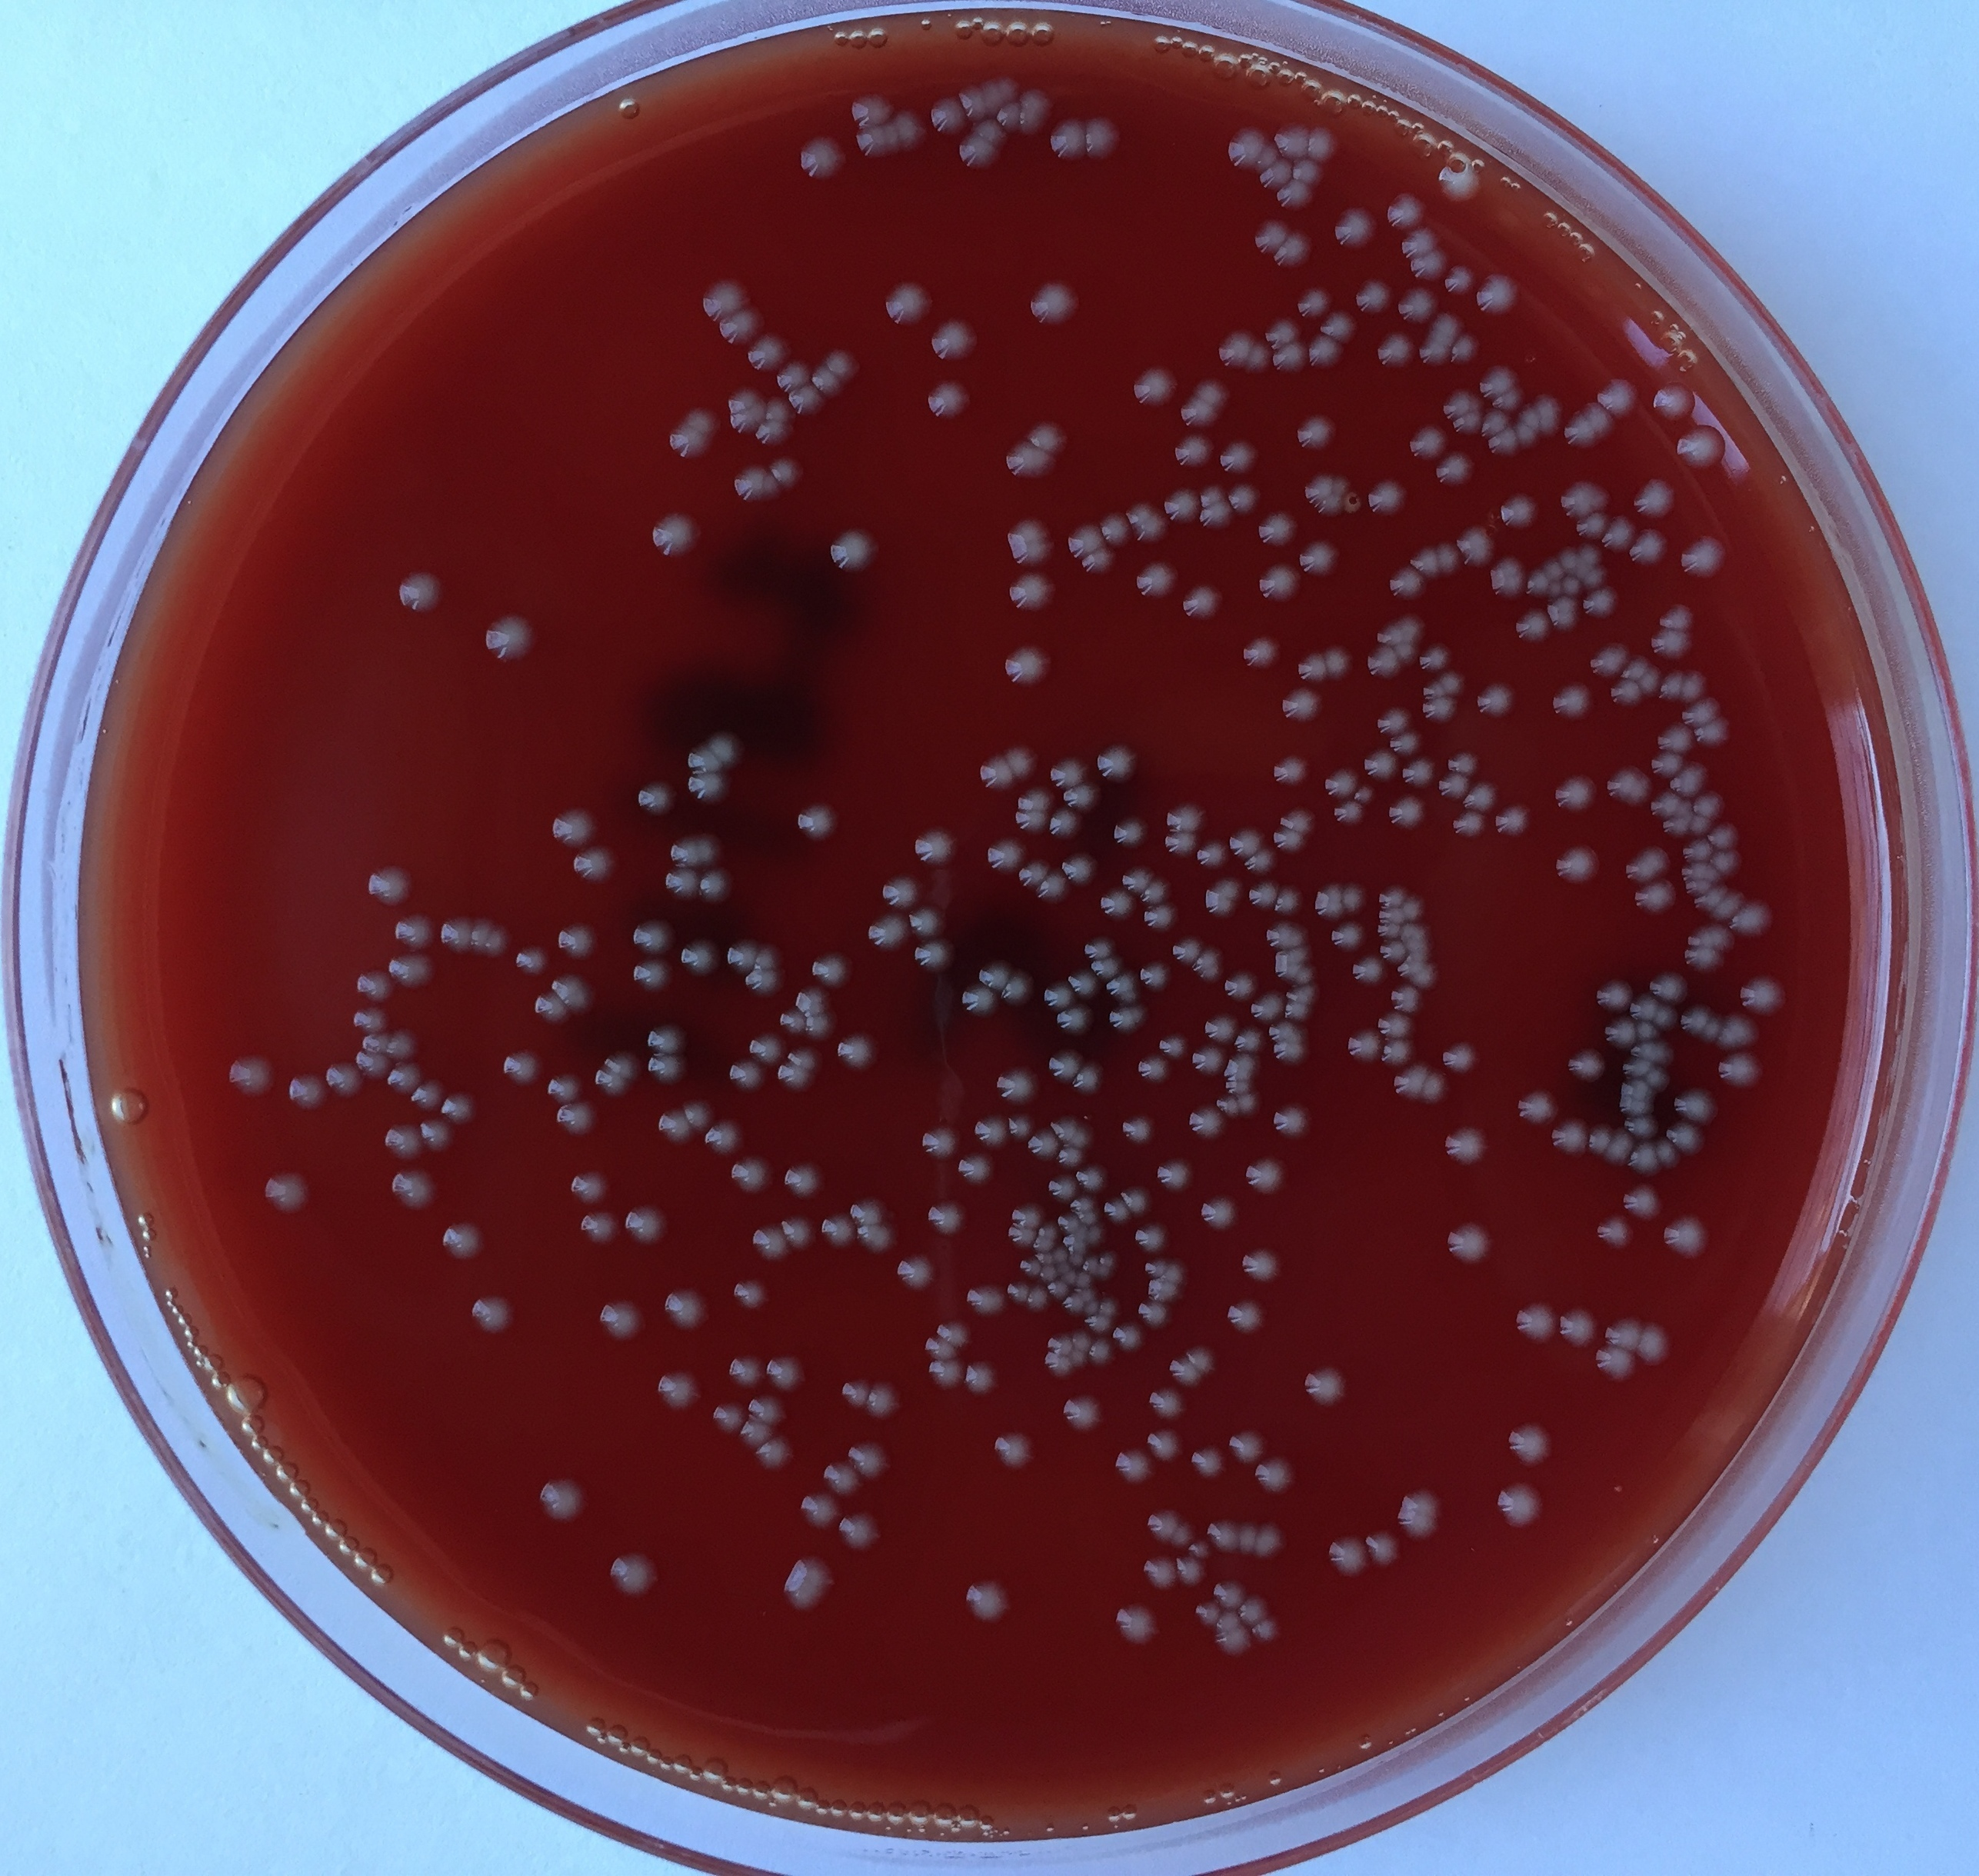sp13: (773, 1552, 841, 1612), (259, 1165, 316, 1222), (1672, 421, 1730, 476), (483, 610, 538, 668), (1025, 277, 1081, 330), (1004, 513, 1057, 569), (1390, 1490, 1445, 1541), (825, 524, 880, 575), (1000, 636, 1055, 688), (605, 1550, 661, 1599), (656, 1285, 713, 1335), (794, 134, 852, 182), (226, 1051, 277, 1104), (395, 568, 446, 621), (653, 506, 704, 559), (1443, 1218, 1499, 1266), (1490, 1483, 1547, 1530), (649, 1368, 707, 1414), (529, 1478, 589, 1522), (390, 1165, 441, 1217), (596, 1298, 651, 1345), (878, 282, 935, 328), (698, 277, 755, 323), (1549, 843, 1607, 887), (1432, 157, 1485, 205), (1677, 534, 1730, 582), (1131, 363, 1184, 411), (1058, 1393, 1113, 1439), (1557, 478, 1614, 522), (963, 1578, 1019, 1622), (439, 1215, 489, 1264), (550, 800, 600, 850), (1505, 1423, 1556, 1470), (1125, 499, 1173, 550), (1662, 1217, 1714, 1262), (619, 1204, 676, 1247), (1004, 441, 1060, 483), (1330, 203, 1379, 250), (1242, 1153, 1291, 1201), (1552, 1303, 1600, 1352), (554, 919, 601, 968), (367, 862, 414, 912), (1221, 122, 1266, 173), (284, 1070, 335, 1116), (1131, 557, 1182, 603), (928, 321, 981, 365), (1737, 973, 1790, 1017), (570, 841, 623, 885), (806, 950, 861, 993), (1485, 555, 1533, 603), (928, 376, 975, 423), (1473, 270, 1522, 316), (1605, 763, 1654, 809), (386, 949, 436, 994), (550, 970, 596, 1019), (1007, 568, 1057, 614), (831, 1511, 889, 1550), (1512, 1303, 1563, 1347), (794, 1488, 845, 1532), (841, 1439, 892, 1483), (988, 1430, 1041, 1472), (981, 836, 1034, 878), (392, 910, 439, 956), (665, 418, 713, 464), (716, 309, 765, 353), (1549, 681, 1600, 723), (1550, 772, 1602, 815), (1293, 538, 1346, 578), (1623, 843, 1676, 883), (1716, 1049, 1769, 1090), (831, 1033, 884, 1074), (1651, 379, 1697, 425), (469, 1291, 515, 1336), (1323, 1536, 1370, 1580), (1012, 90, 1055, 139), (743, 331, 792, 374), (1727, 896, 1776, 938), (1199, 878, 1249, 920), (1251, 1455, 1300, 1497), (1298, 1366, 1349, 1407), (1042, 1172, 1095, 1211), (676, 940, 728, 979), (847, 122, 901, 159), (1393, 282, 1439, 326), (631, 915, 676, 961), (631, 952, 676, 998), (1095, 741, 1139, 786), (1630, 476, 1677, 518), (1365, 478, 1413, 520), (1021, 416, 1069, 458), (1635, 1321, 1676, 1370), (780, 1160, 829, 1201), (905, 905, 954, 945), (794, 804, 843, 845), (817, 1458, 866, 1499), (993, 1067, 1044, 1105), (954, 1151, 1007, 1188), (1621, 1180, 1665, 1224), (383, 1120, 427, 1164), (1256, 561, 1302, 603), (1547, 1116, 1593, 1158), (1372, 331, 1420, 372), (1665, 760, 1713, 800), (1632, 876, 1679, 917), (1515, 1088, 1563, 1128), (1196, 1194, 1243, 1234), (1238, 1245, 1286, 1285), (351, 1047, 399, 1088), (863, 915, 917, 950), (1293, 414, 1342, 453), (1215, 439, 1265, 478), (1441, 1125, 1490, 1164), (1378, 938, 1427, 977), (877, 873, 928, 910), (1406, 421, 1450, 464), (1390, 1061, 1434, 1104), (727, 1158, 780, 1194), (439, 1090, 482, 1134), (637, 774, 679, 818), (704, 725, 748, 767), (1594, 377, 1640, 418), (1471, 681, 1517, 721), (1247, 1523, 1293, 1564), (891, 104, 930, 152), (1279, 686, 1326, 725), (1672, 1086, 1720, 1125), (1221, 1298, 1268, 1336), (1591, 1345, 1639, 1384), (566, 1171, 614, 1210), (1222, 1432, 1272, 1469), (552, 1102, 601, 1139), (1053, 1003, 1102, 1040), (910, 829, 960, 866), (1598, 1319, 1649, 1354), (852, 1222, 903, 1257), (750, 1439, 801, 1474), (861, 1381, 903, 1423), (1064, 518, 1106, 561), (1051, 118, 1092, 162), (1254, 510, 1298, 550), (1457, 524, 1497, 568), (1543, 594, 1587, 635), (1593, 1211, 1637, 1252), (751, 1224, 795, 1264), (1563, 1046, 1609, 1084), (1270, 1102, 1316, 1141), (917, 1125, 963, 1164), (1385, 793, 1432, 830), (1058, 779, 1106, 816), (642, 1051, 691, 1086), (910, 942, 960, 977), (686, 772, 736, 808), (739, 966, 794, 998), (930, 95, 970, 138), (1596, 515, 1639, 555), (1594, 977, 1637, 1017), (1720, 1009, 1762, 1049), (1494, 799, 1536, 839), (961, 1358, 1004, 1398), (325, 1058, 365, 1100), (418, 1116, 460, 1157), (385, 1058, 427, 1098), (512, 940, 554, 980), (499, 1047, 541, 1088), (765, 451, 808, 492), (1011, 1202, 1062, 1236), (1351, 277, 1395, 316), (1497, 492, 1542, 531), (1115, 1604, 1159, 1643), (746, 1391, 790, 1430), (1180, 582, 1224, 621), (1085, 115, 1122, 160), (1586, 644, 1632, 681), (1185, 1446, 1231, 1483), (575, 1210, 621, 1247), (660, 867, 706, 905), (734, 1414, 780, 1451), (1048, 755, 1094, 792), (1238, 635, 1286, 670), (698, 1121, 746, 1157), (653, 1111, 700, 1146), (743, 1033, 790, 1068), (437, 912, 473, 959), (762, 1358, 811, 1391), (1251, 217, 1291, 257), (1273, 229, 1314, 270), (1215, 331, 1256, 372), (1512, 605, 1552, 645), (1667, 1118, 1707, 1158), (970, 1111, 1011, 1151), (385, 1024, 425, 1065), (1305, 335, 1348, 374), (1434, 450, 1476, 488), (1476, 361, 1519, 400), (1647, 970, 1690, 1009), (1154, 1155, 1196, 1194), (1363, 1530, 1406, 1569), (728, 400, 767, 443), (977, 751, 1016, 793), (956, 134, 1000, 171), (1397, 224, 1441, 261), (1408, 247, 1452, 284), (1582, 398, 1619, 443), (1171, 434, 1215, 471), (1706, 889, 1750, 926), (965, 1282, 1009, 1319), (1111, 1448, 1155, 1485), (1095, 508, 1132, 552), (1679, 945, 1730, 977), (1182, 1105, 1228, 1141), (958, 984, 1004, 1019), (589, 1065, 637, 1098), (706, 1402, 753, 1435), (1265, 919, 1318, 949), (1273, 122, 1314, 160), (1561, 413, 1600, 453), (1600, 1014, 1639, 1054), (1344, 1024, 1385, 1063), (1311, 883, 1349, 924), (1212, 1615, 1252, 1654), (407, 1076, 448, 1114), (771, 356, 813, 393), (1572, 508, 1614, 545), (1684, 922, 1734, 954), (1201, 1518, 1243, 1555), (919, 1335, 968, 1366), (723, 940, 765, 977), (531, 989, 573, 1026), (1004, 742, 1041, 785), (847, 92, 891, 127), (1305, 122, 1340, 166), (1261, 316, 1305, 351), (1529, 391, 1565, 435), (1626, 531, 1670, 566), (1388, 566, 1432, 601), (1448, 806, 1492, 841), (924, 1201, 968, 1236), (679, 1098, 723, 1134), (695, 869, 739, 905), (1004, 1222, 1058, 1250), (1651, 628, 1697, 661), (1145, 1389, 1191, 1423), (1057, 853, 1102, 887), (642, 1026, 693, 1056), (1012, 786, 1064, 816), (1191, 379, 1238, 411), (1677, 696, 1725, 728), (600, 1051, 647, 1083), (1388, 190, 1427, 229), (1408, 543, 1445, 584), (1328, 919, 1369, 956), (1118, 1111, 1159, 1148), (355, 966, 395, 1003), (1318, 310, 1360, 346), (1321, 767, 1363, 802), (1441, 1040, 1483, 1076), (1164, 1356, 1206, 1391), (776, 1215, 818, 1250), (998, 973, 1041, 1009), (684, 742, 727, 778), (1178, 397, 1222, 430), (1162, 800, 1206, 834), (926, 1358, 970, 1391), (774, 1060, 818, 1093), (1032, 871, 1076, 905), (1044, 808, 1088, 841), (732, 460, 765, 504), (1254, 160, 1300, 192), (1651, 723, 1697, 755), (728, 1280, 774, 1312), (845, 1199, 896, 1227), (1295, 284, 1333, 321), (1446, 330, 1485, 367), (1224, 481, 1263, 518), (1162, 487, 1199, 525), (1416, 1068, 1455, 1105), (1351, 952, 1388, 991), (1141, 1553, 1180, 1590), (1233, 1592, 1272, 1629), (1360, 748, 1400, 783), (1460, 779, 1501, 815), (1097, 887, 1138, 922), (1189, 1044, 1229, 1079), (1069, 1061, 1109, 1097), (545, 1070, 586, 1105), (1603, 1125, 1637, 1167), (1376, 1009, 1418, 1042), (1143, 1430, 1185, 1463), (894, 1257, 937, 1291), (751, 414, 794, 448), (1378, 1035, 1422, 1067), (974, 959, 1018, 991), (797, 1010, 841, 1042), (1078, 545, 1122, 577), (933, 1319, 979, 1349), (792, 986, 838, 1016), (1677, 1001, 1714, 1038), (1118, 1183, 1155, 1220), (1108, 1321, 1145, 1358), (972, 116, 1011, 152), (1647, 748, 1688, 781), (1363, 647, 1404, 681), (1270, 755, 1311, 788), (1247, 991, 1288, 1024), (1132, 1222, 1173, 1255), (1173, 1555, 1214, 1589), (818, 1215, 859, 1248), (1275, 180, 1318, 212), (1210, 1580, 1252, 1612), (1489, 381, 1526, 416), (1658, 601, 1695, 636), (1319, 644, 1355, 681), (1388, 730, 1425, 765), (1191, 947, 1226, 984), (1027, 1127, 1062, 1164), (691, 832, 727, 869), (686, 404, 723, 439), (788, 379, 825, 414), (1228, 827, 1266, 860), (1143, 1511, 1182, 1545), (1041, 980, 1079, 1014), (349, 1003, 388, 1037), (483, 922, 517, 961), (954, 83, 986, 123), (1270, 342, 1311, 374), (1580, 589, 1621, 621), (1420, 695, 1460, 726), (1192, 839, 1233, 871), (1014, 859, 1055, 890), (723, 384, 764, 416), (1691, 718, 1734, 748), (811, 365, 847, 400), (1626, 1139, 1662, 1174), (822, 347, 859, 381), (1416, 331, 1453, 365), (1480, 404, 1513, 441), (1376, 703, 1413, 737), (1690, 788, 1727, 822), (1203, 1012, 1240, 1046), (1104, 972, 1141, 1005), (1076, 1160, 1109, 1197), (1109, 815, 1148, 846), (1138, 961, 1176, 993), (725, 1060, 764, 1091), (1607, 679, 1647, 709), (1011, 808, 1057, 834), (467, 915, 494, 961), (1081, 934, 1124, 963), (1402, 755, 1438, 788), (1681, 836, 1716, 869), (1586, 1121, 1619, 1157), (1300, 474, 1337, 506), (1416, 642, 1453, 674), (1445, 748, 1482, 779), (1388, 982, 1425, 1014), (1136, 1298, 1173, 1329), (838, 1379, 875, 1411), (727, 1356, 764, 1388), (1065, 970, 1102, 1001), (1483, 428, 1522, 458), (1434, 540, 1464, 578), (1243, 850, 1282, 880), (1222, 972, 1261, 1001), (1182, 1345, 1221, 1375), (773, 1007, 811, 1037), (1226, 1054, 1265, 1084), (1295, 651, 1328, 684), (1004, 1111, 1037, 1144), (993, 97, 1025, 132), (1251, 138, 1282, 173), (1441, 266, 1476, 298), (1628, 989, 1663, 1021), (1340, 882, 1372, 917), (1245, 880, 1281, 912), (1168, 934, 1203, 966), (1198, 501, 1235, 531), (1707, 850, 1744, 880), (1118, 866, 1155, 896), (1233, 1024, 1270, 1054), (1046, 1114, 1083, 1144), (665, 839, 702, 869), (1691, 885, 1730, 913), (1087, 954, 1125, 982), (750, 947, 788, 975), (1275, 808, 1319, 832), (1270, 827, 1311, 853), (1162, 830, 1203, 857), (1265, 1021, 1305, 1047), (783, 1044, 824, 1070), (1438, 388, 1471, 420), (1273, 883, 1305, 917), (1450, 406, 1485, 435), (1658, 670, 1688, 705), (1436, 772, 1471, 802), (1707, 822, 1743, 852), (1155, 1031, 1191, 1061), (1138, 1053, 1173, 1083), (1637, 663, 1665, 700), (1653, 1134, 1681, 1171), (1270, 1038, 1307, 1067), (1166, 1522, 1203, 1550), (1085, 1338, 1122, 1366), (1628, 1017, 1667, 1044), (1145, 1278, 1184, 1305), (1046, 1053, 1085, 1079), (1649, 1001, 1681, 1033), (1065, 1120, 1097, 1151), (1291, 157, 1325, 187), (1243, 339, 1273, 372), (1522, 566, 1552, 599), (1372, 621, 1406, 651), (1649, 790, 1683, 820), (1139, 876, 1173, 906), (1143, 901, 1176, 931), (1681, 668, 1709, 703), (1332, 799, 1367, 827), (979, 78, 1004, 116), (1621, 1114, 1660, 1139), (1580, 564, 1612, 594), (1108, 1005, 1138, 1037), (1057, 1141, 1088, 1171), (1196, 483, 1229, 511), (1233, 1523, 1261, 1557), (1699, 1010, 1725, 1046), (1041, 1351, 1076, 1377), (1247, 1617, 1284, 1641), (1397, 612, 1429, 640), (1642, 1063, 1674, 1091), (1399, 892, 1427, 924), (1192, 1599, 1224, 1627), (1513, 421, 1543, 450), (1436, 670, 1466, 698), (1393, 642, 1423, 670), (1316, 494, 1348, 520), (1662, 815, 1693, 841), (1376, 885, 1408, 912), (1101, 1199, 1132, 1225), (1042, 1331, 1074, 1358), (1184, 1537, 1217, 1562), (1557, 573, 1586, 601), (1215, 1091, 1243, 1120), (1004, 1278, 1032, 1306), (1236, 1091, 1266, 1118), (1624, 654, 1651, 682), (1284, 996, 1312, 1023), (1023, 1285, 1049, 1314), (1168, 1257, 1194, 1285), (1095, 1294, 1125, 1319), (1067, 1328, 1099, 1351), (1069, 1280, 1101, 1303), (1266, 949, 1311, 964), (1042, 1278, 1071, 1303), (1557, 548, 1580, 578), (1083, 1314, 1113, 1336), (1058, 1292, 1088, 1315), (1288, 987, 1323, 1007), (1397, 945, 1436, 963), (1139, 1257, 1171, 1278), (1263, 964, 1300, 982), (1420, 679, 1448, 702), (1376, 922, 1404, 945), (1053, 1211, 1083, 1232), (1330, 471, 1353, 497), (1418, 972, 1445, 994), (1545, 555, 1566, 584), (1379, 906, 1409, 926), (1224, 1084, 1254, 1104), (1060, 1232, 1090, 1252), (1545, 578, 1568, 601), (1016, 1257, 1041, 1278), (1351, 786, 1378, 806), (1296, 970, 1323, 987), (1065, 1252, 1087, 1273), (1095, 1250, 1118, 1269), (1090, 1225, 1113, 1245), (1078, 1210, 1102, 1227), (1072, 1271, 1097, 1289), (1037, 1264, 1058, 1284), (1399, 931, 1434, 942), (1053, 1261, 1072, 1278), (1099, 1266, 1116, 1285), (1402, 954, 1434, 964), (1053, 1247, 1069, 1264), (1085, 1231, 1102, 1247), (1083, 1254, 1097, 1273), (1035, 1250, 1051, 1266), (1071, 1227, 1097, 1236)
